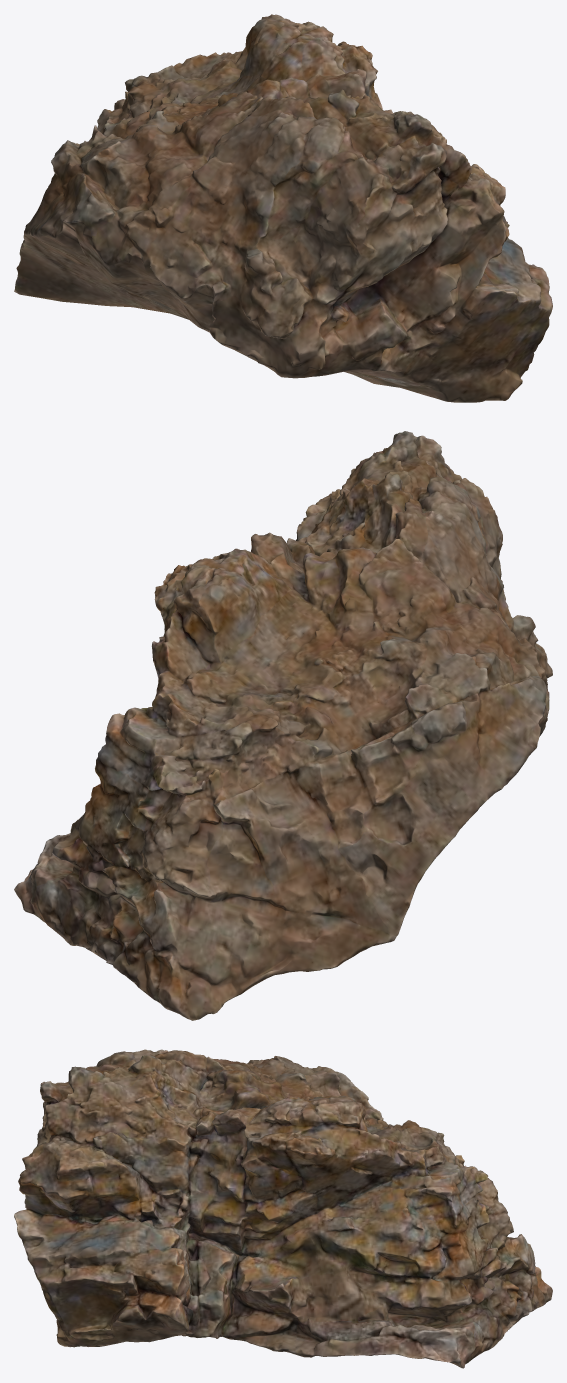
File: rock.glb
3 views of the same model, one above another, from view 1: azimuth 30°, elevation 25°; view 2: azimuth 150°, elevation 25°; view 3: azimuth 270°, elevation 25° (orthographic). The views are drawn at different scales.
Parts seen in each view (by area): view 1: boulder_01; view 2: boulder_01; view 3: boulder_01.
Part boxes in pixels (left/top/right/bottom): boulder_01: left=14, top=14, right=552, bottom=402; boulder_01: left=14, top=431, right=552, bottom=1020; boulder_01: left=14, top=1049, right=552, bottom=1368.
Size of the model in its own units: 1.27 by 1 by 1.83.
1 material, 1 textured.
